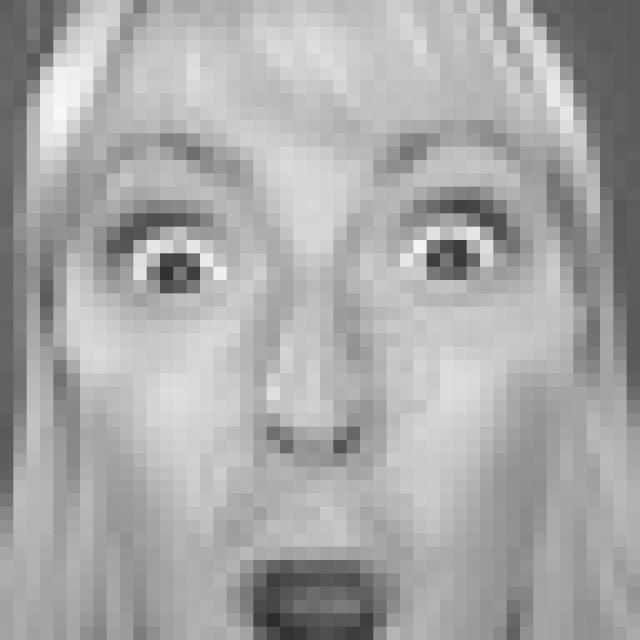surprise: (79, 113, 550, 640)
